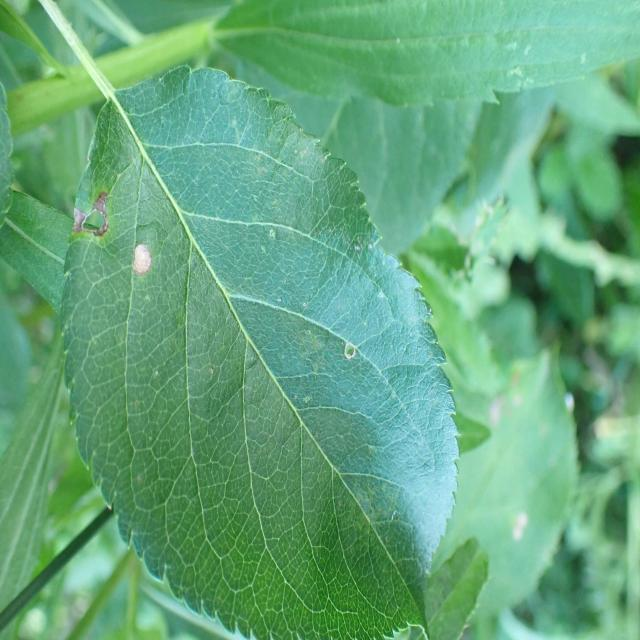Black Rot: (61, 169, 112, 266), (125, 223, 160, 310), (340, 338, 363, 376)
